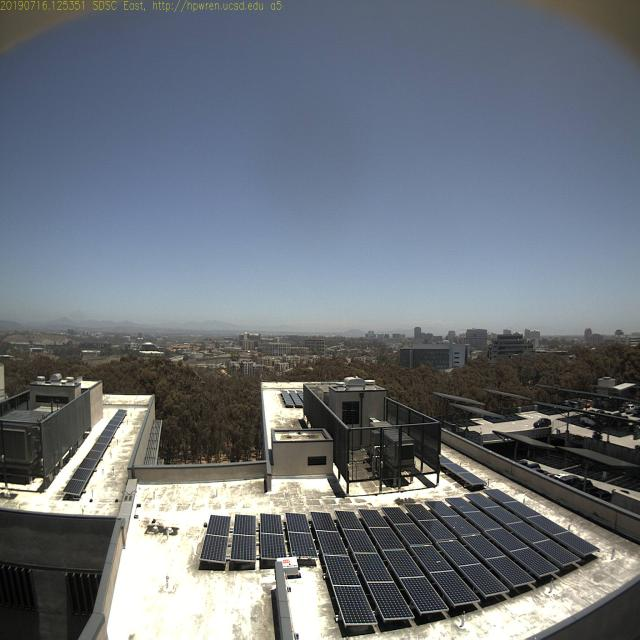smoke: (68, 302, 102, 336)
